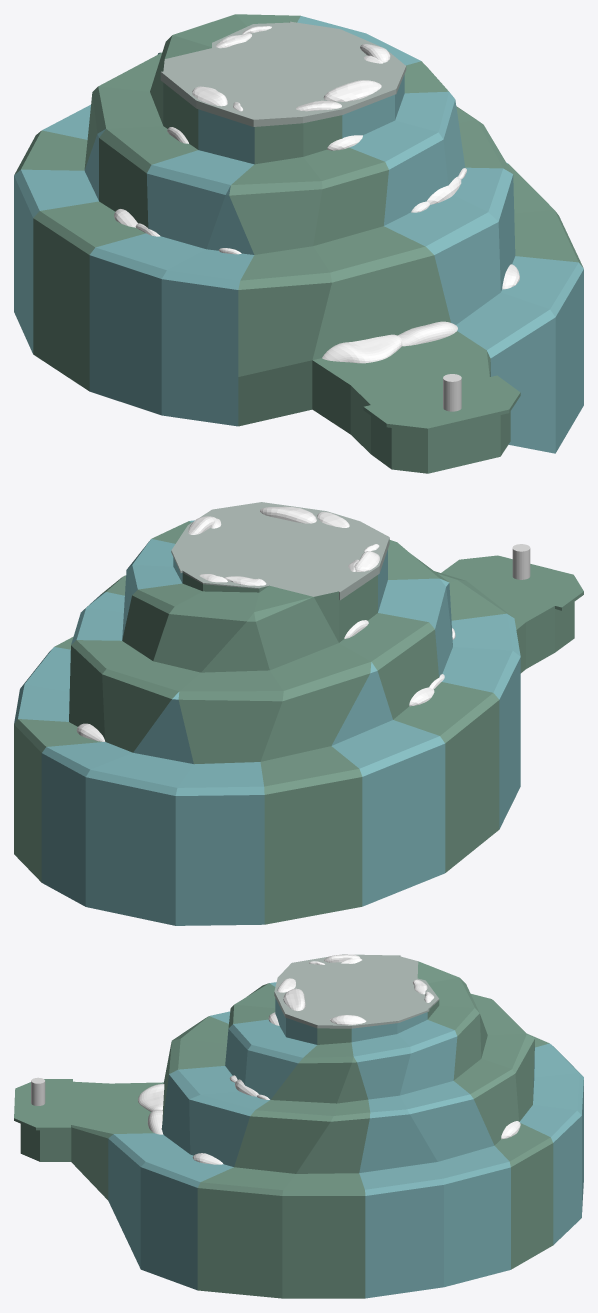
The model's file is WATER_level.fbx.
3 renders of one model, top to bottom at view 1: azimuth 30°, elevation 25°; view 2: azimuth 150°, elevation 25°; view 3: azimuth 270°, elevation 25°, orthographic. The views are drawn at different scales.
Parts seen in each view (by area): view 1: Plane, Sphere.001, Sphere, Sphere.002, Cylinder; view 2: Plane, Sphere.001, Cylinder; view 3: Plane, Sphere.001, Sphere.
Part boxes in pixels (x1,y1,x2,y2): Plane: (14, 14, 583, 473); Sphere.001: (114, 26, 519, 289); Sphere: (322, 321, 457, 363); Sphere.002: (219, 168, 466, 254); Cylinder: (443, 374, 461, 411); Plane: (14, 502, 583, 925); Sphere.001: (76, 506, 444, 741); Cylinder: (512, 544, 530, 579); Plane: (14, 954, 583, 1298); Sphere.001: (192, 954, 520, 1164); Sphere: (138, 1083, 164, 1134).
Bounding box in the file's own units: 1386 × 936 × 2031.
